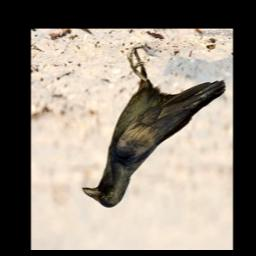Crow: (80, 48, 227, 210)
